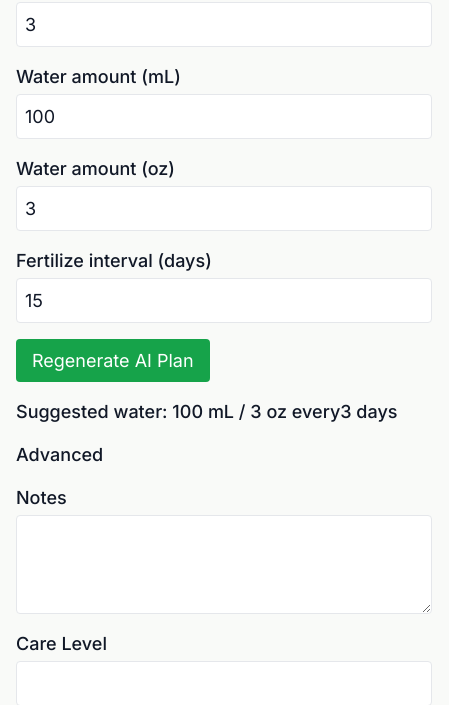
Test: uses fallback plan on failure
(page scrolled)
Click the button "Regenerate AI Plan" at coordinates (113, 360), box top-left (16, 339), bottom-right (210, 382)
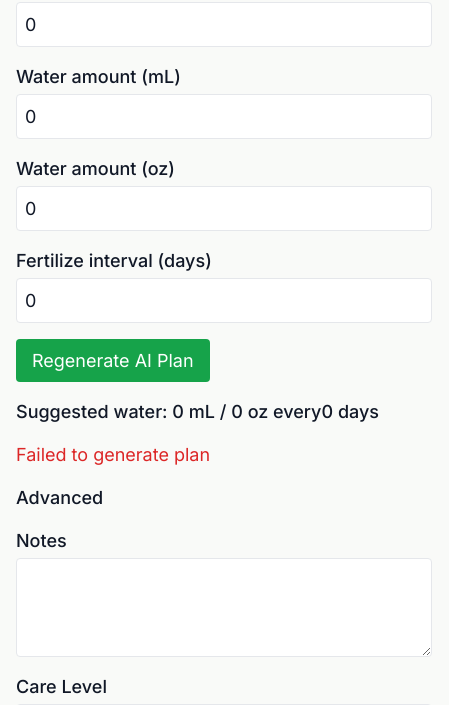
Expected: the number field labelled "Water interval (days)" holds "0", top-left (16, 2), bottom-right (432, 47)
Expected: the number field labelled "Water amount (mL)" holds "0", top-left (16, 94), bottom-right (432, 139)
